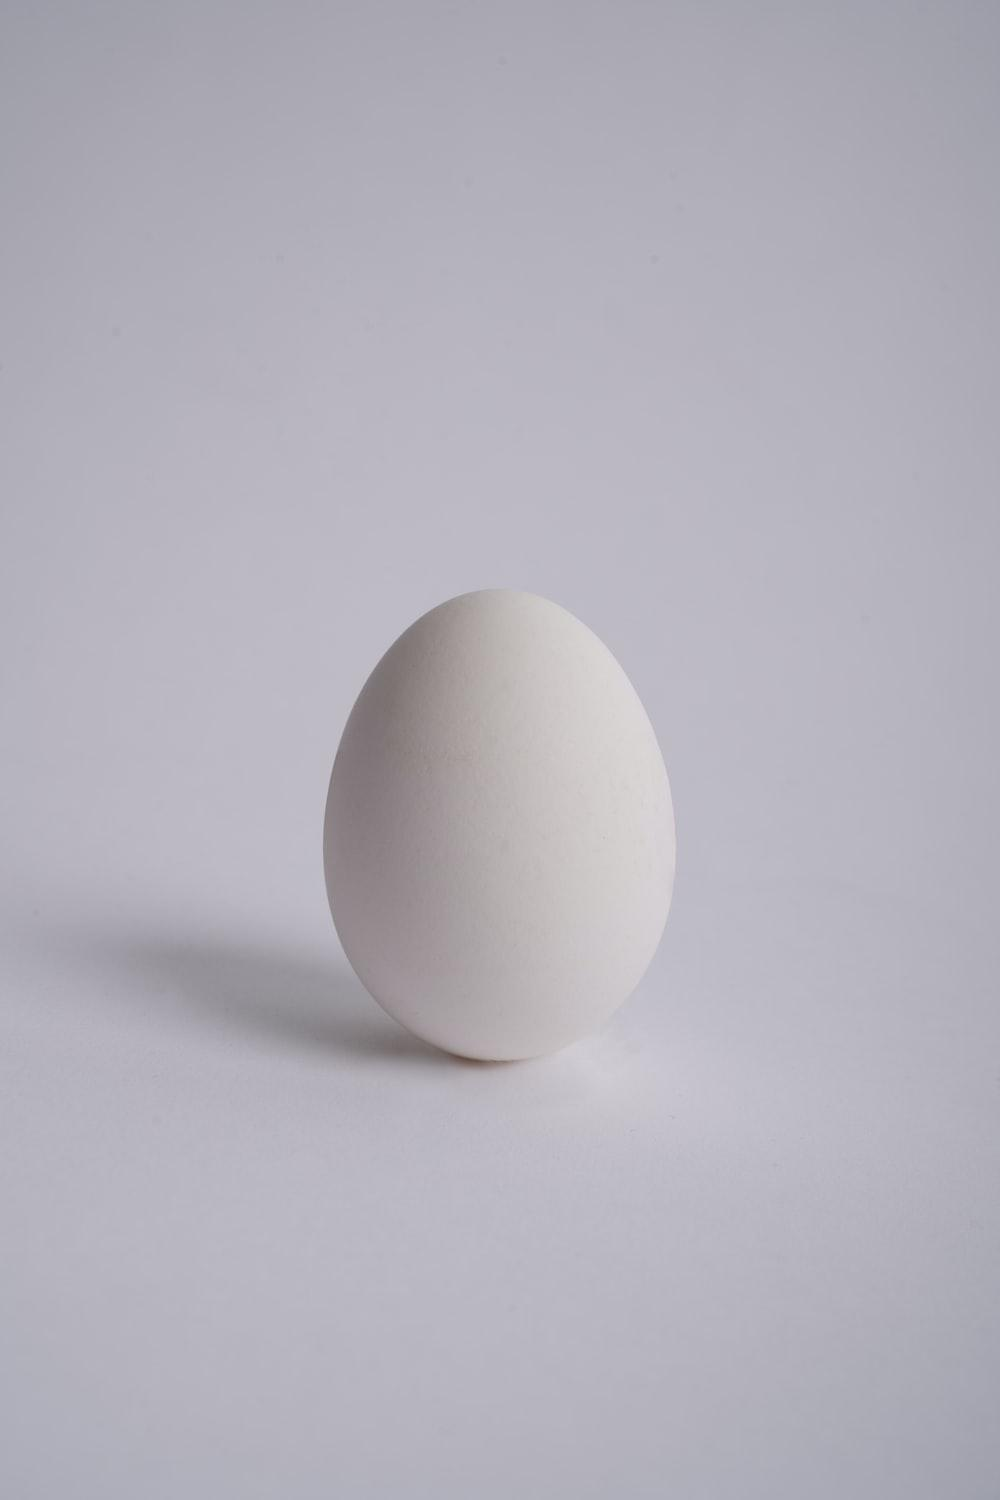egg: (318, 566, 684, 1083)
